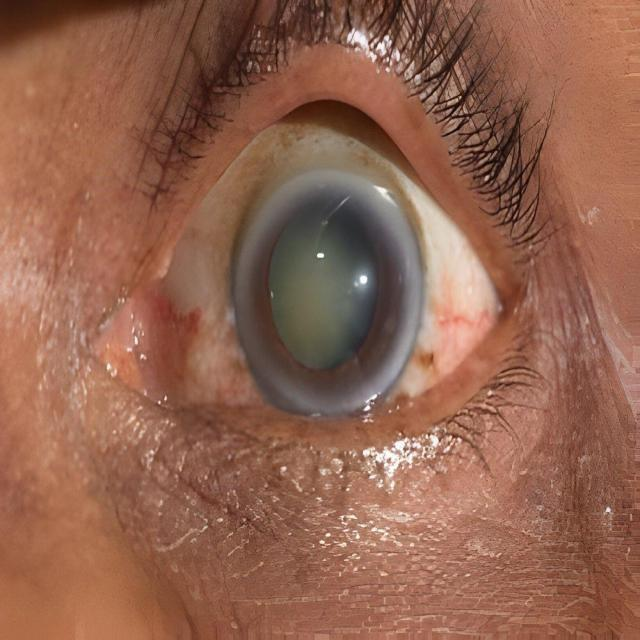Cataract: (229, 142, 422, 410)
